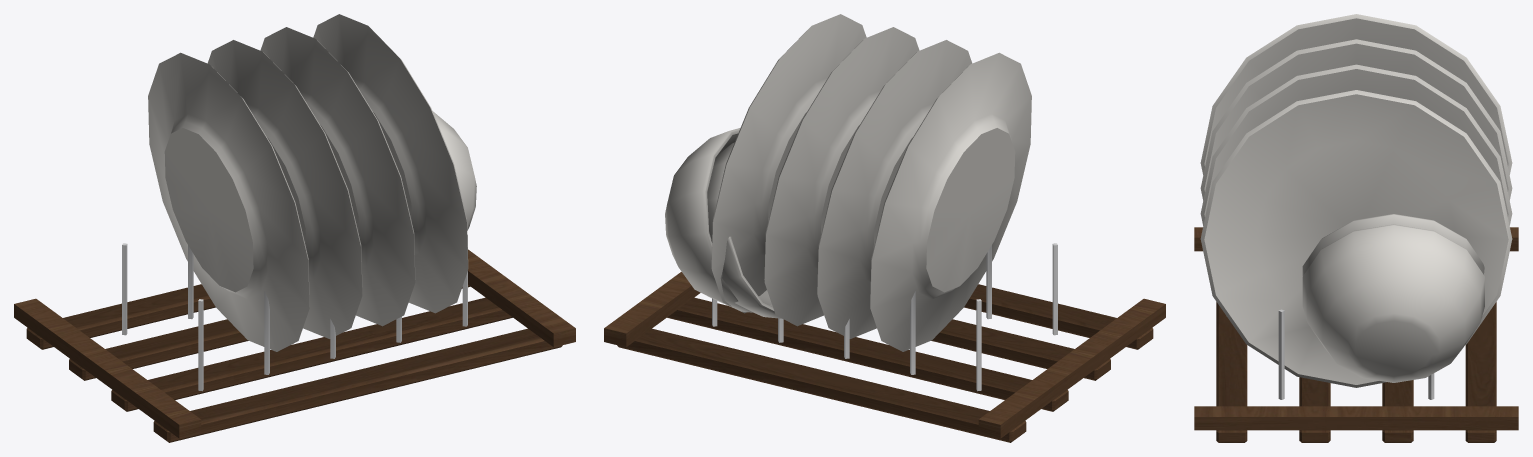
Rendered from decor_b_dish_rack.gltf.
The picture shows the model from 3 angles, left to right: view 1: azimuth 30°, elevation 25°; view 2: azimuth 150°, elevation 25°; view 3: azimuth 270°, elevation 25°; orthographic projection.
Parts seen in each view (by area): view 1: DecorBDishRack_Walnut_NoCollide, DecorBDishRack_Plate01_CeramicWhite_NoCollide, DecorBDishRack_Plate03_CeramicWhite_NoCollide, DecorBDishRack_Plate04_CeramicWhite_NoCollide, DecorBDishRack_Plate02_CeramicWhite_NoCollide, DecorBDishRack_Steel_NoCollide, DecorBDishRack_Bowl02_CeramicWhite_NoCollide; view 2: DecorBDishRack_Walnut_NoCollide, DecorBDishRack_Plate01_CeramicWhite_NoCollide, DecorBDishRack_Plate03_CeramicWhite_NoCollide, DecorBDishRack_Plate02_CeramicWhite_NoCollide, DecorBDishRack_Plate04_CeramicWhite_NoCollide, DecorBDishRack_Bowl02_CeramicWhite_NoCollide, DecorBDishRack_Steel_NoCollide, DecorBDishRack_Bowl01_CeramicWhite_NoCollide; view 3: DecorBDishRack_Plate04_CeramicWhite_NoCollide, DecorBDishRack_Bowl02_CeramicWhite_NoCollide, DecorBDishRack_Walnut_NoCollide, DecorBDishRack_Plate03_CeramicWhite_NoCollide, DecorBDishRack_Plate01_CeramicWhite_NoCollide, DecorBDishRack_Plate02_CeramicWhite_NoCollide, DecorBDishRack_Bowl01_CeramicWhite_NoCollide, DecorBDishRack_Steel_NoCollide.
Boxes of the visible parts, x1,y1,x2,y2 form: DecorBDishRack_Walnut_NoCollide: (14,249,575,442); DecorBDishRack_Plate01_CeramicWhite_NoCollide: (148,52,309,351); DecorBDishRack_Plate03_CeramicWhite_NoCollide: (260,27,415,326); DecorBDishRack_Plate04_CeramicWhite_NoCollide: (313,14,468,313); DecorBDishRack_Plate02_CeramicWhite_NoCollide: (207,40,362,338); DecorBDishRack_Steel_NoCollide: (122,235,467,391); DecorBDishRack_Bowl02_CeramicWhite_NoCollide: (432,111,476,230); DecorBDishRack_Walnut_NoCollide: (604,272,1165,442); DecorBDishRack_Plate01_CeramicWhite_NoCollide: (870,52,1031,351); DecorBDishRack_Plate03_CeramicWhite_NoCollide: (764,27,919,326); DecorBDishRack_Plate02_CeramicWhite_NoCollide: (817,40,972,338); DecorBDishRack_Plate04_CeramicWhite_NoCollide: (711,14,866,313); DecorBDishRack_Bowl02_CeramicWhite_NoCollide: (665,128,771,312); DecorBDishRack_Steel_NoCollide: (712,243,1057,391); DecorBDishRack_Bowl01_CeramicWhite_NoCollide: (707,142,781,318); DecorBDishRack_Plate04_CeramicWhite_NoCollide: (1200,90,1512,387); DecorBDishRack_Bowl02_CeramicWhite_NoCollide: (1302,224,1484,382); DecorBDishRack_Walnut_NoCollide: (1194,227,1518,442); DecorBDishRack_Plate03_CeramicWhite_NoCollide: (1200,64,1512,225); DecorBDishRack_Plate01_CeramicWhite_NoCollide: (1200,14,1512,174); DecorBDishRack_Plate02_CeramicWhite_NoCollide: (1200,39,1512,200); DecorBDishRack_Bowl01_CeramicWhite_NoCollide: (1302,214,1484,275); DecorBDishRack_Steel_NoCollide: (1278,309,1434,399).
Bounding box in the file's own units: 0.36 × 0.2605 × 0.26.
3 materials, 1 textured.
